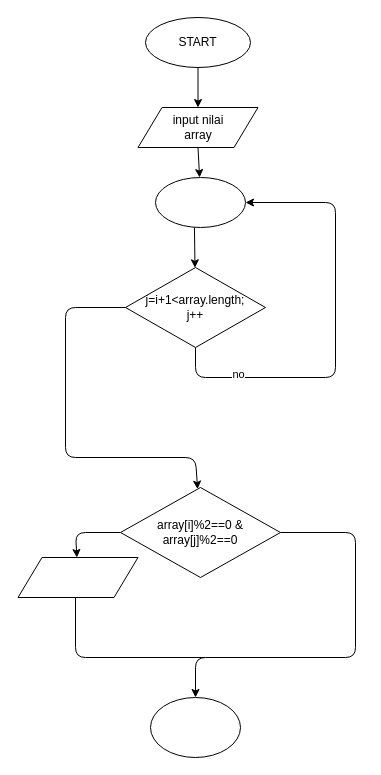
This 381x775 diagram has some shape labels left out. The centre of each missing label's shape, as x and y in pixels:
"loop" goes at (200,202).
"selisih= array[i] - array [j]" goes at (77,577).
